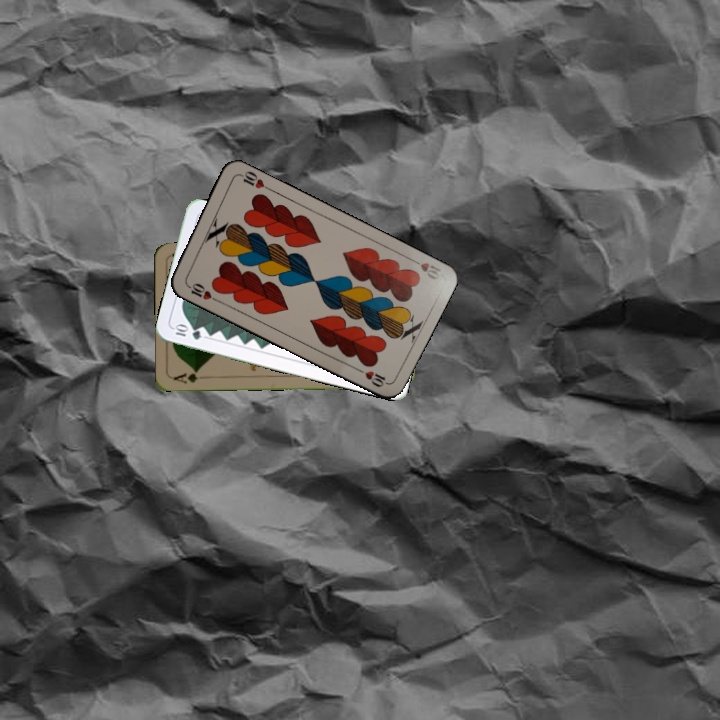G10: (170, 321, 204, 342)
GA: (170, 366, 211, 386)
H10: (406, 253, 445, 282), (182, 279, 220, 304)
